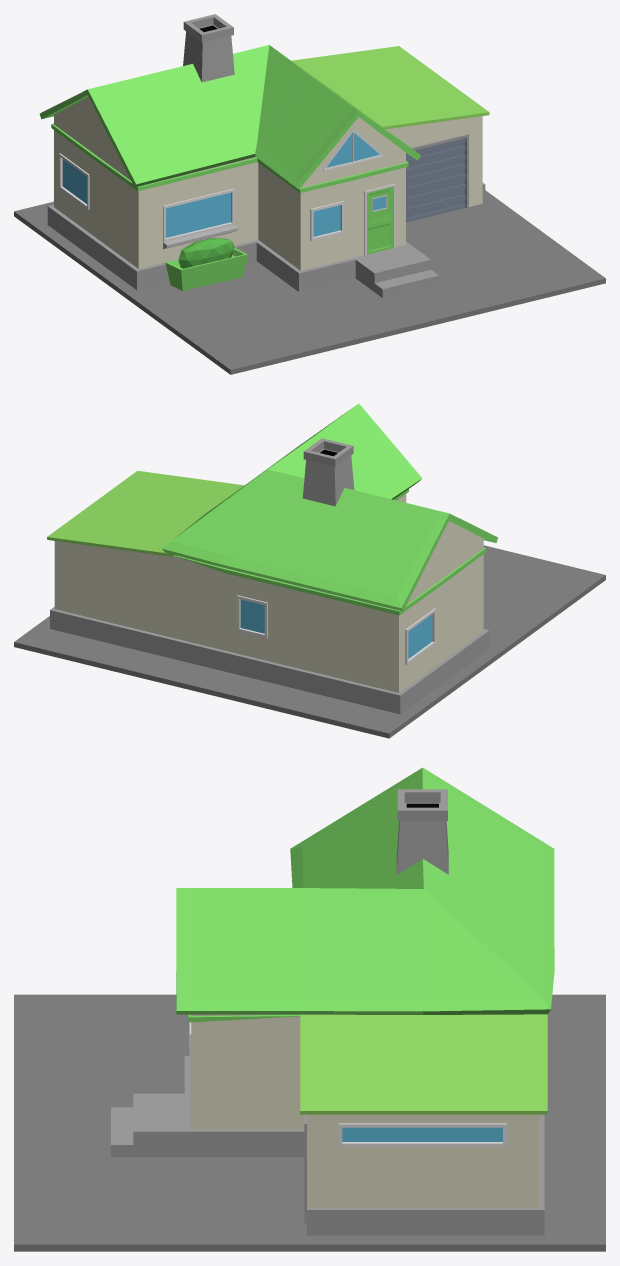
The model's file is GreenSuburbanHouse (1).fbx.
The picture shows the model from 3 angles, top to bottom: view 1: azimuth 30°, elevation 25°; view 2: azimuth 150°, elevation 25°; view 3: azimuth 270°, elevation 25°; orthographic projection. The views are drawn at different scales.
Parts seen in each view (by area): view 1: GreenHouse; view 2: GreenHouse; view 3: GreenHouse.
Part boxes in pixels (box(x1,y1,x2,y2)): GreenHouse: box(14, 14, 605, 374); GreenHouse: box(14, 403, 605, 738); GreenHouse: box(14, 767, 605, 1251).
Size of the model in its own units: 700 by 374 by 700.
